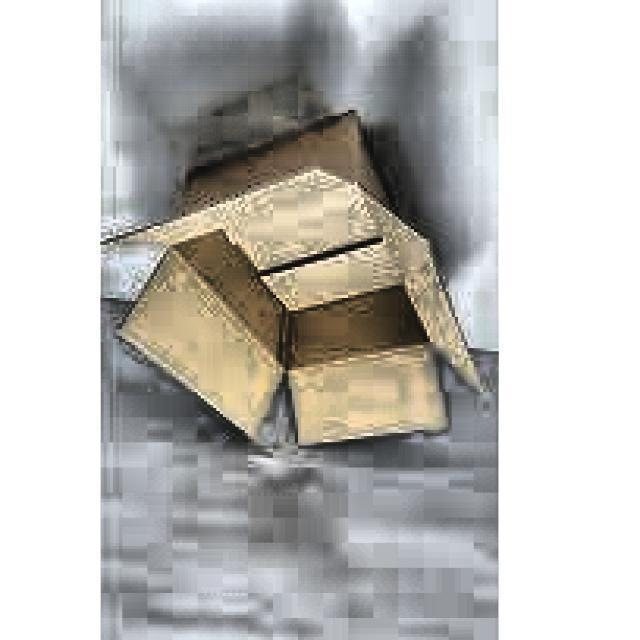cardboard: (100, 110, 490, 452)
